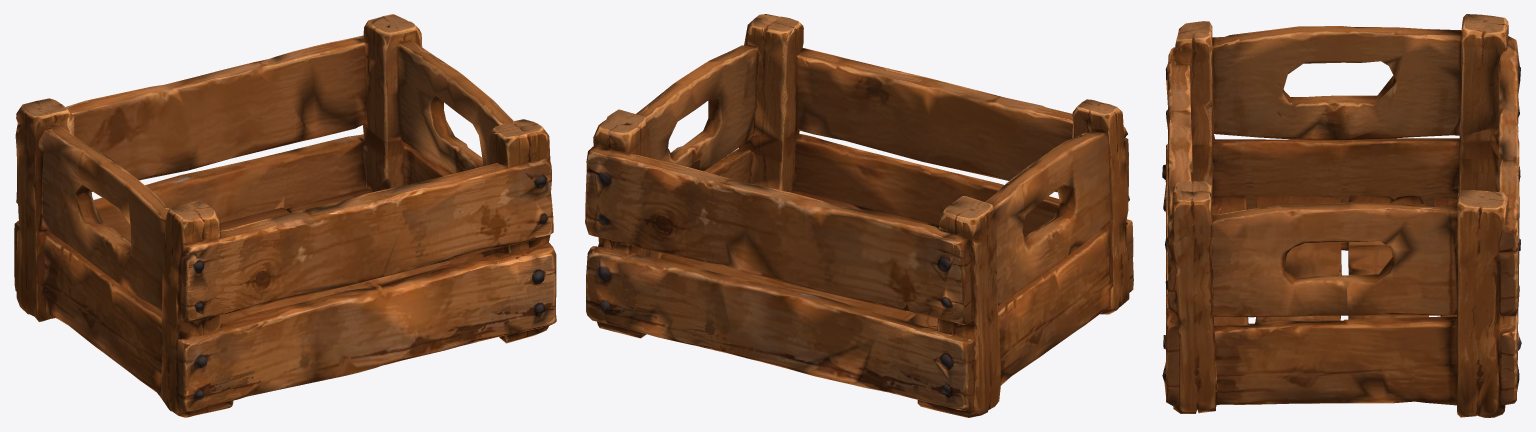
File: d_crate.glb
3 renders of one model, left to right at view 1: azimuth 30°, elevation 25°; view 2: azimuth 150°, elevation 25°; view 3: azimuth 270°, elevation 25°, orthographic. The views are drawn at different scales.
Bounding box in the file's own units: 1.9 × 0.9614 × 1.47.
1 material, 1 textured.
